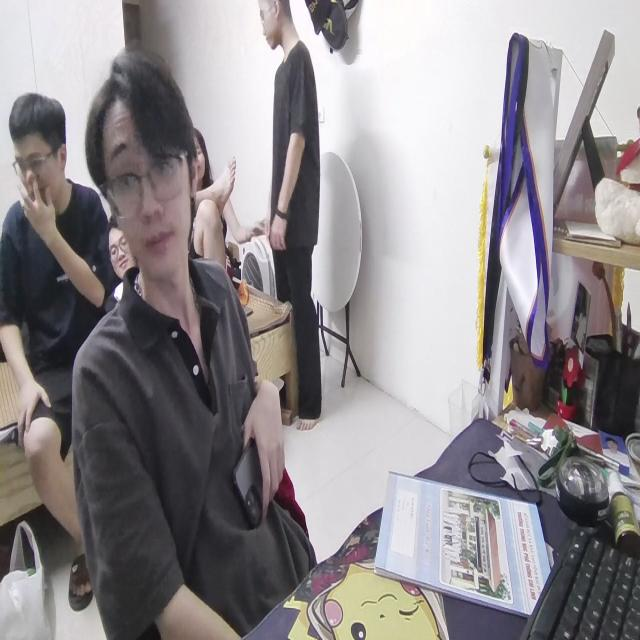book: (376, 469, 552, 634)
extra_person: (0, 88, 116, 602), (256, 0, 331, 444), (103, 212, 139, 294), (190, 129, 225, 204)
student: (76, 48, 310, 640)
